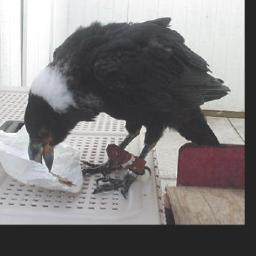Crow: (20, 16, 231, 199)
